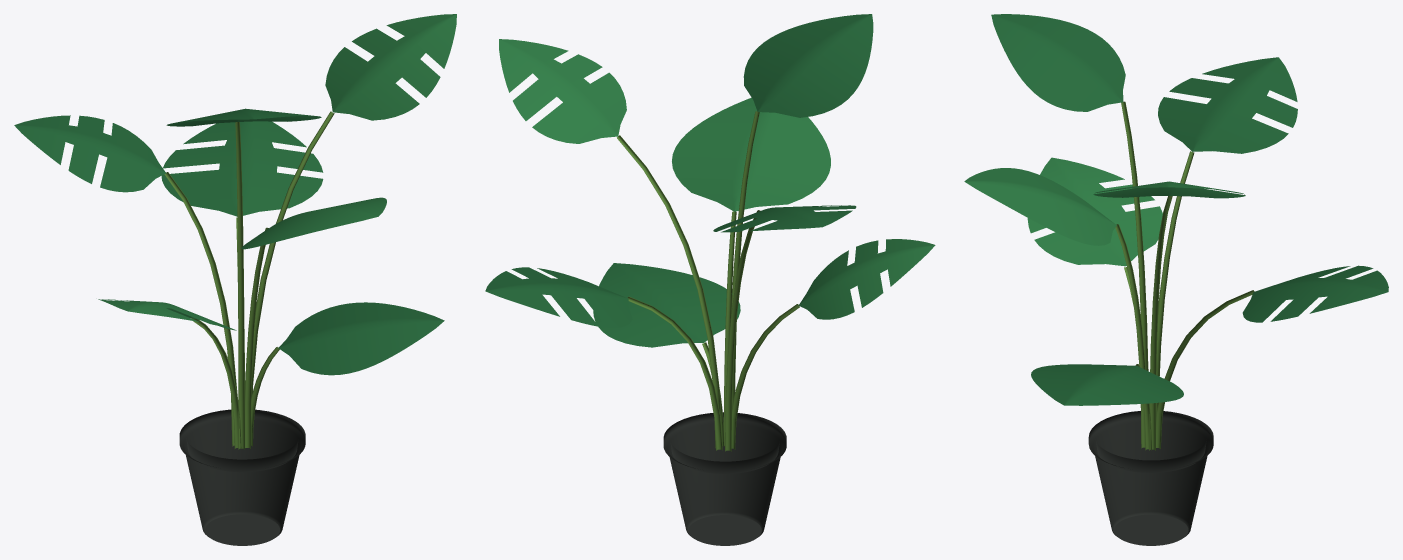
The model's file is monstera_charcoal_L.glb.
3 views of the same model, side by side, from view 1: azimuth 30°, elevation 25°; view 2: azimuth 150°, elevation 25°; view 3: azimuth 270°, elevation 25° (orthographic). The views are drawn at different scales.
Parts seen in each view (by area): view 1: Monstera (charcoal, L); view 2: Monstera (charcoal, L); view 3: Monstera (charcoal, L).
Boxes of the visible parts, <box> form: Monstera (charcoal, L): <box>14,14,456,545</box>; Monstera (charcoal, L): <box>485,14,935,545</box>; Monstera (charcoal, L): <box>964,14,1388,545</box>.
Size of the model in its own units: 1.05 by 1.25 by 1.
